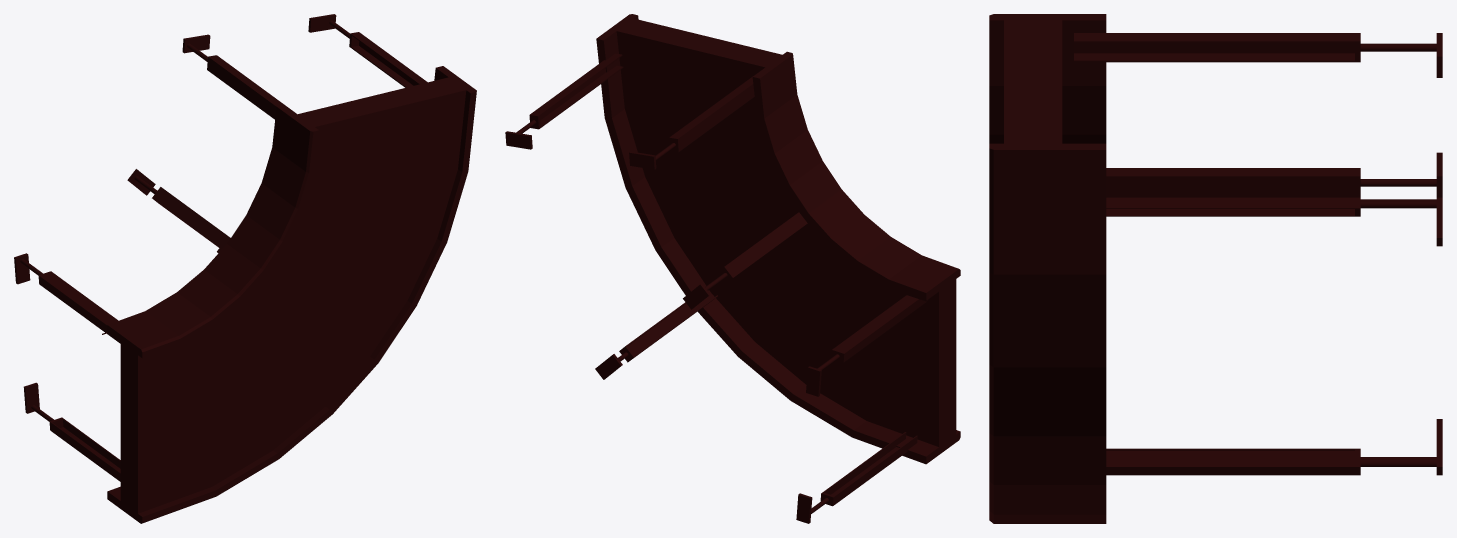
Rendered from col_left_1m.obj.
3 views of the same model, side by side, from view 1: azimuth 30°, elevation 25°; view 2: azimuth 150°, elevation 25°; view 3: azimuth 270°, elevation 25° (orthographic). The views are drawn at different scales.
Parts seen in each view (by area): view 1: Left_1m_co; view 2: Left_1m_co; view 3: Left_1m_co.
Part boxes in pixels (left/top/right/bottom): Left_1m_co: left=14, top=14, right=476, bottom=523; Left_1m_co: left=505, top=14, right=960, bottom=523; Left_1m_co: left=989, top=14, right=1442, bottom=523.
Bounding box in the file's own units: 1.13 × 1.11 × 0.775.
